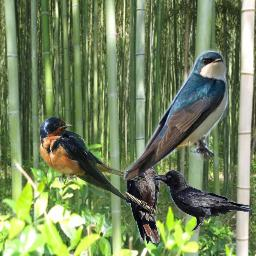Crow: (152, 170, 254, 233), (125, 152, 160, 244)
Swallow: (119, 46, 233, 183), (38, 115, 150, 200)
